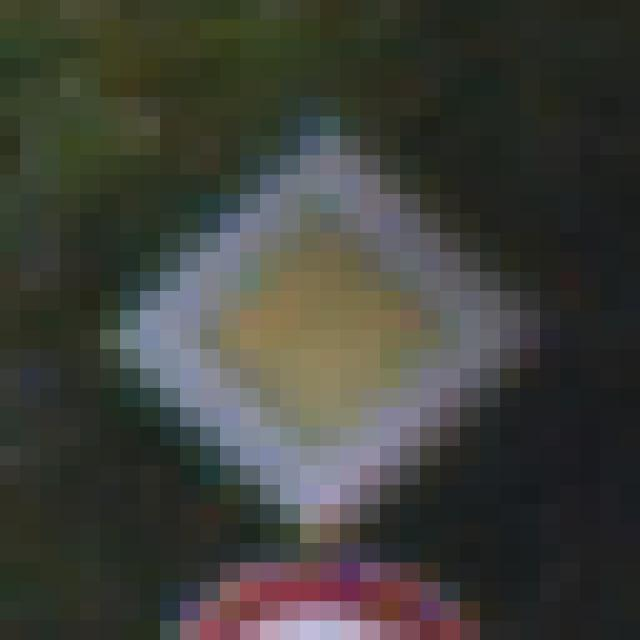Main Road: (101, 98, 521, 544)
